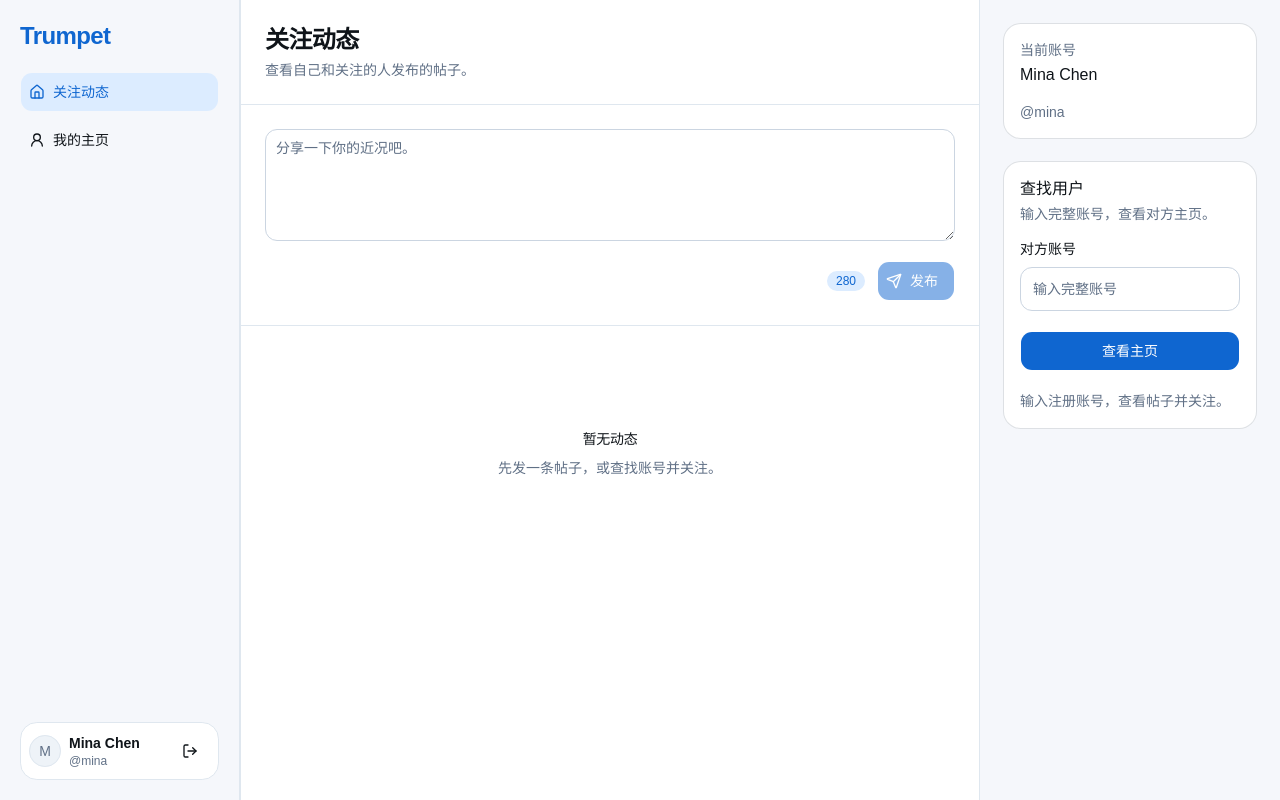
Scenario: async interaction safety › keeps the session and reports a failed logout
Step 1. Click the button named "退出登录" → (190, 751), box x1=170 y1=731 x2=210 y2=771
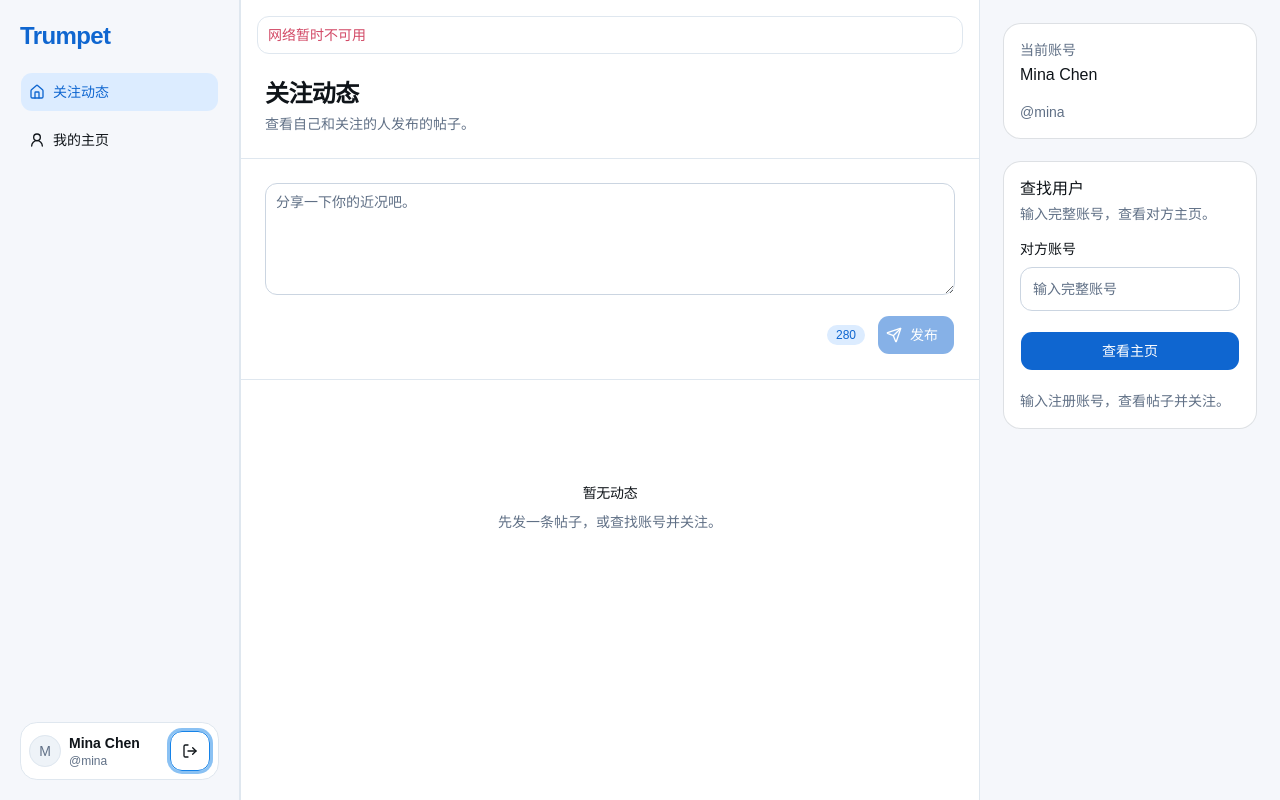
Expected: the heading "关注动态" is shown, x1=265 y1=80 x2=359 y2=107
Expected: the message reads "网络暂时不可用", x1=268 y1=27 x2=366 y2=43
